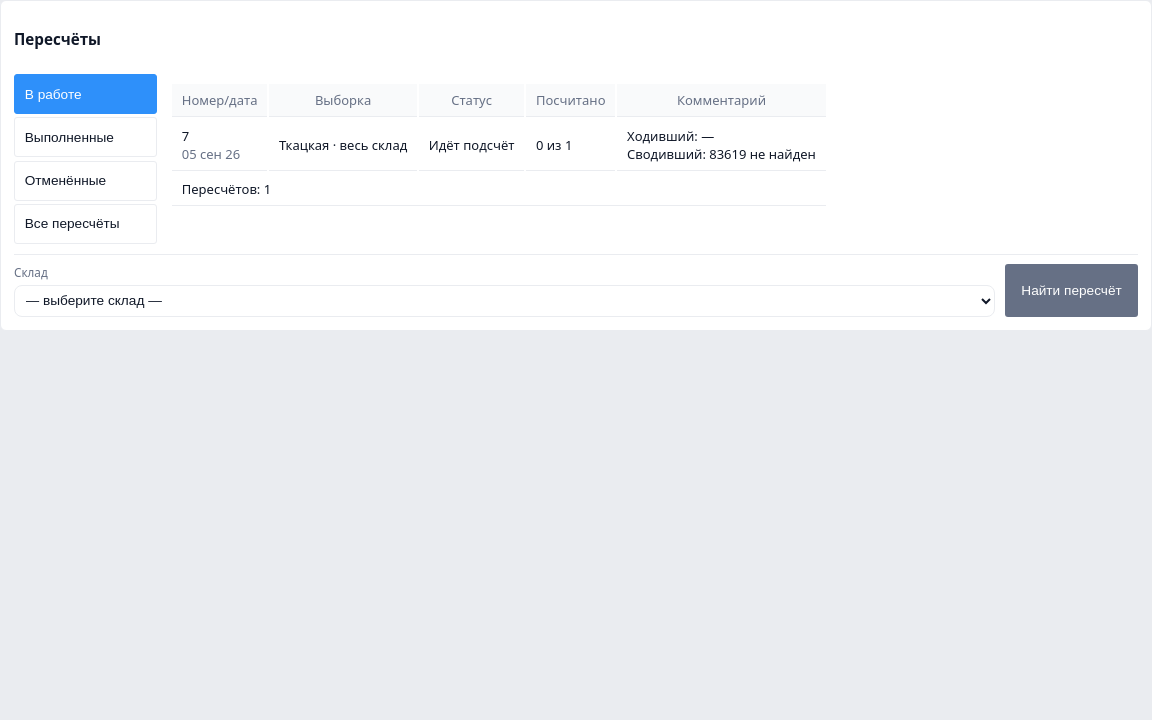
журнал пересчётов › комментарий виден в колонке списка и сохраняется у живого пересчёта
Check: the text "Сводивший: 83619 не найден" is shown, box [627,145,816,163]
Click the text "Идёт подсчёт".
click(472, 145)  # box [419,119,524,171]
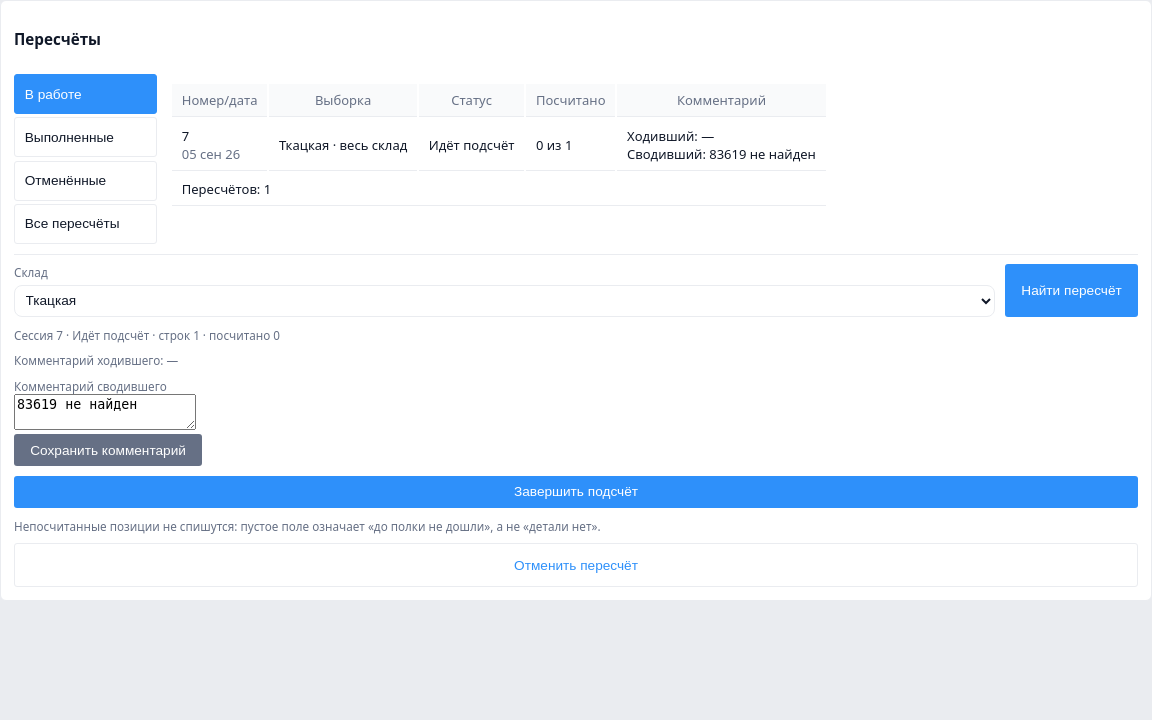
Check: the text "Сессия 7 · Идёт подсчёт · строк 1 · посчитано 0" is shown, box [14,327,280,343]
Check: the text box labelled "Комментарий сводившего" holds "83619 не найден"
Replace the text in the text box labelled "Комментарий сводившего" with "Катушки не считали" at (105, 412), box [14,394,196,430]
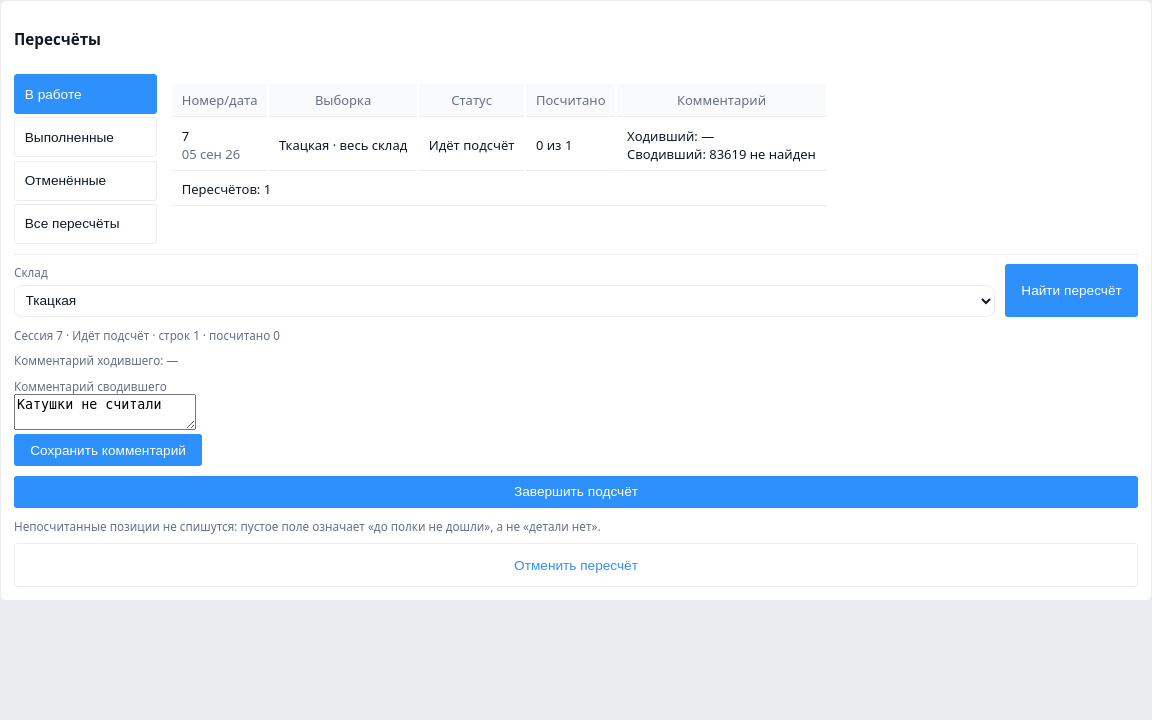
Click the button "Сохранить комментарий".
click(108, 450)  # box [14,434,202,466]
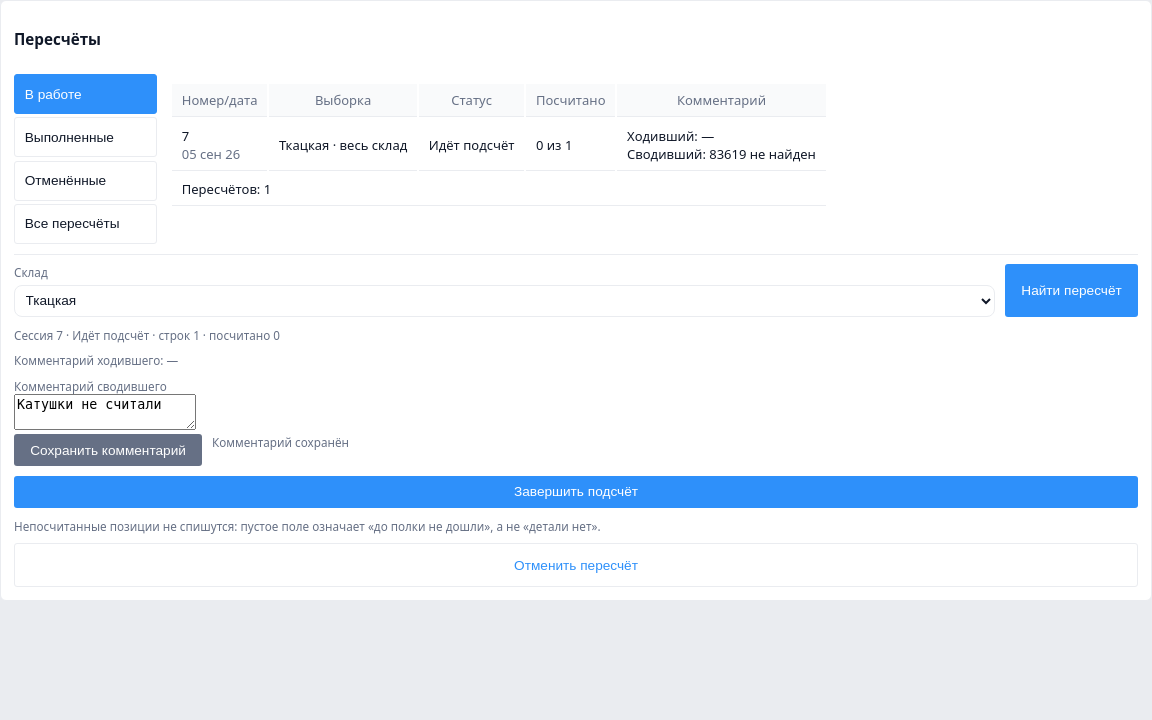
Check: the text "Комментарий сохранён" is shown, box [212,434,349,450]
